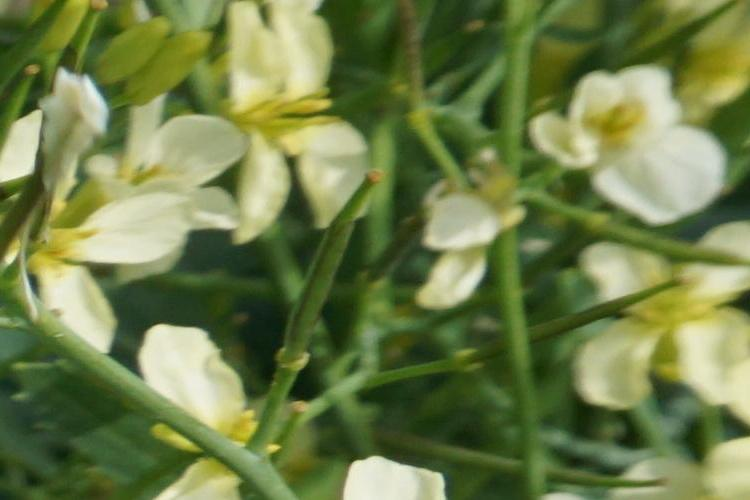bud: (135, 15, 203, 111), (88, 12, 173, 76)
pod: (278, 164, 400, 350), (503, 257, 712, 347)
white: (554, 225, 732, 430), (128, 323, 320, 496), (217, 27, 357, 227), (538, 60, 708, 223), (59, 125, 220, 259), (413, 161, 559, 296)
